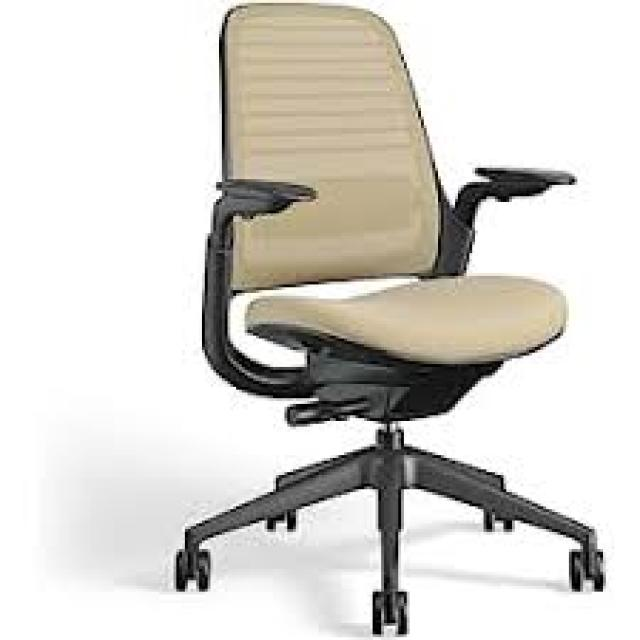chair: (115, 0, 640, 640)
